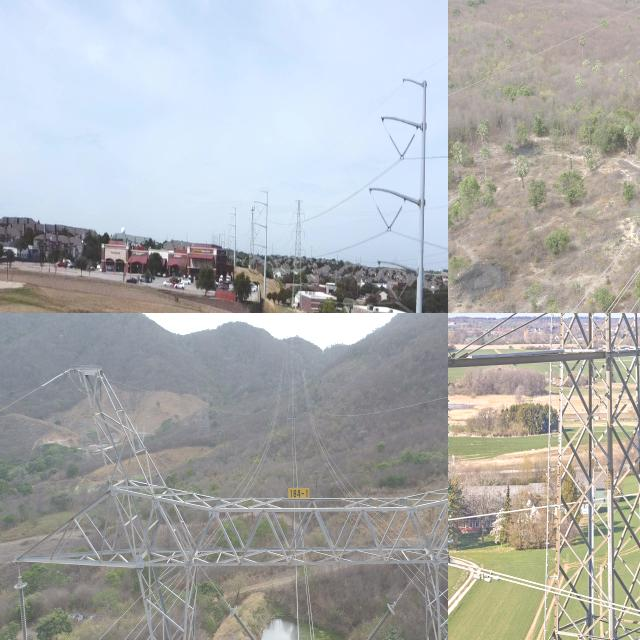杆塔: (16, 363, 448, 640), (550, 313, 640, 640), (282, 191, 310, 311), (247, 203, 257, 271)
正常电缆: (0, 359, 70, 425), (93, 595, 141, 640)
正常绝缘子: (11, 566, 46, 640), (448, 380, 461, 550), (361, 598, 397, 640), (229, 605, 261, 640), (386, 205, 404, 233), (376, 204, 393, 233), (400, 132, 416, 161), (389, 133, 405, 160)
